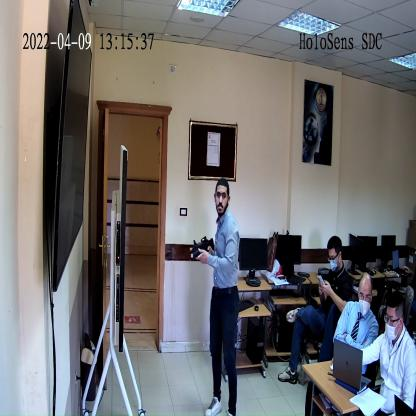handgun: (194, 234, 215, 263)
